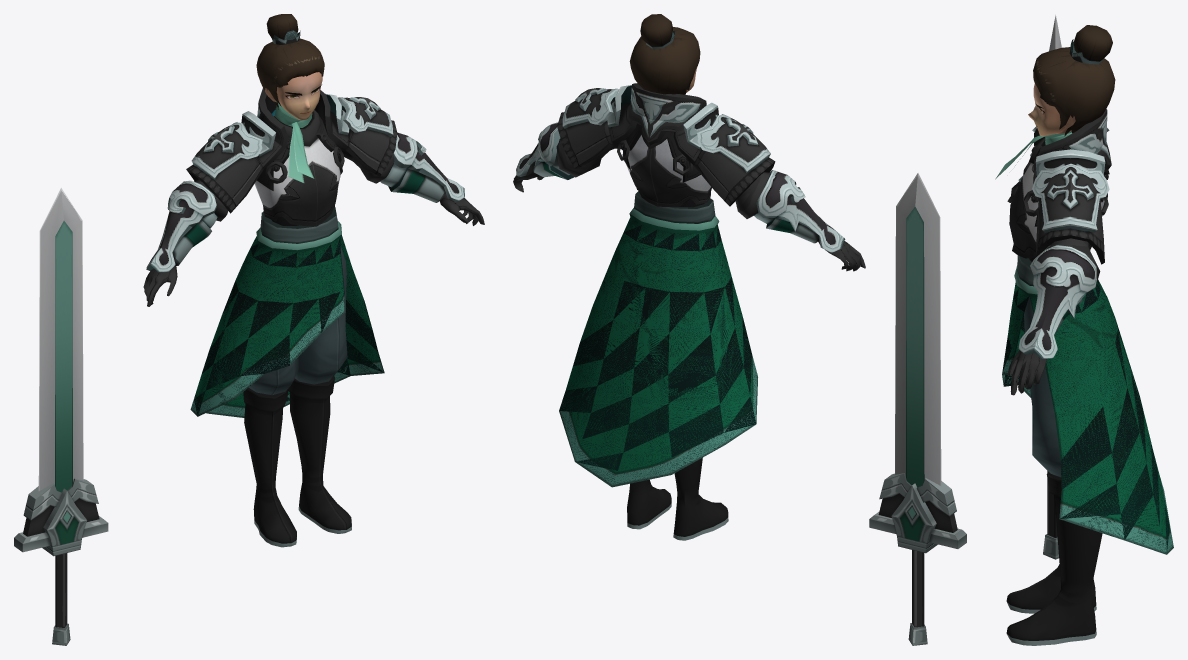
File: h_043_xiang_shao_long_t2_view.fbx
The picture shows the model from 3 angles, left to right: view 1: azimuth 30°, elevation 25°; view 2: azimuth 150°, elevation 25°; view 3: azimuth 270°, elevation 25°; orthographic projection. The views are drawn at different scales.
Visible parts, largest first — view 1: h_043_xiang_shao_long_t2; view 2: h_043_xiang_shao_long_t2; view 3: h_043_xiang_shao_long_t2.
Boxes of the visible parts, <box> form: h_043_xiang_shao_long_t2: <box>14,14,484,645</box>; h_043_xiang_shao_long_t2: <box>513,14,966,645</box>; h_043_xiang_shao_long_t2: <box>995,14,1173,645</box>.
Size of the model in its own units: 217 by 259 by 62.88.
